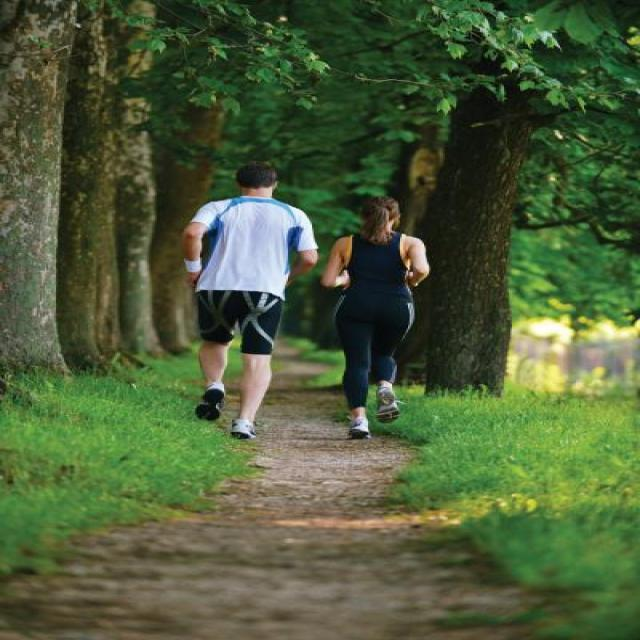Person: (181, 166, 319, 439), (317, 196, 428, 438)
